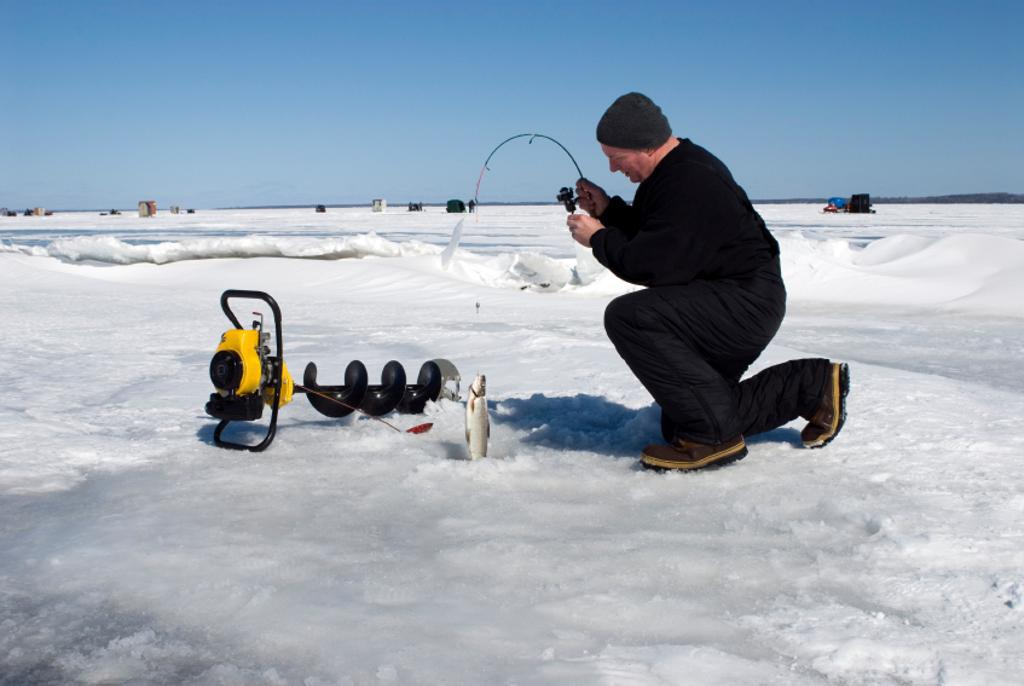face: (599, 125, 653, 185)
